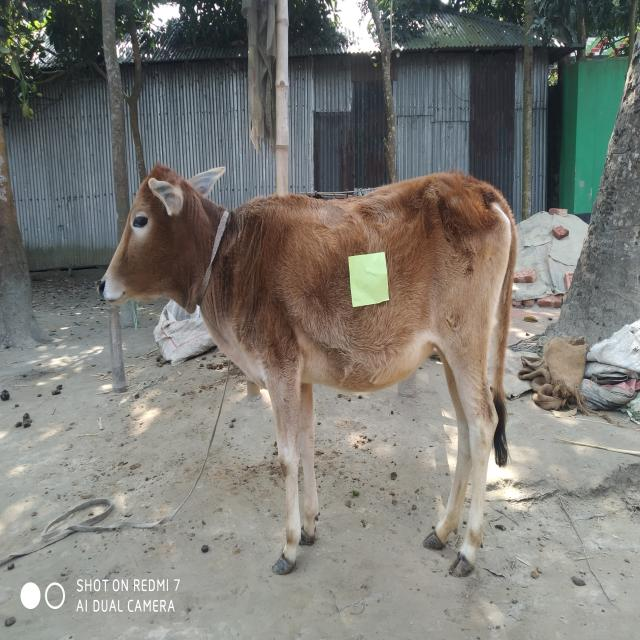badan_sapi: (268, 199, 496, 382)
sapi: (100, 160, 523, 582)
